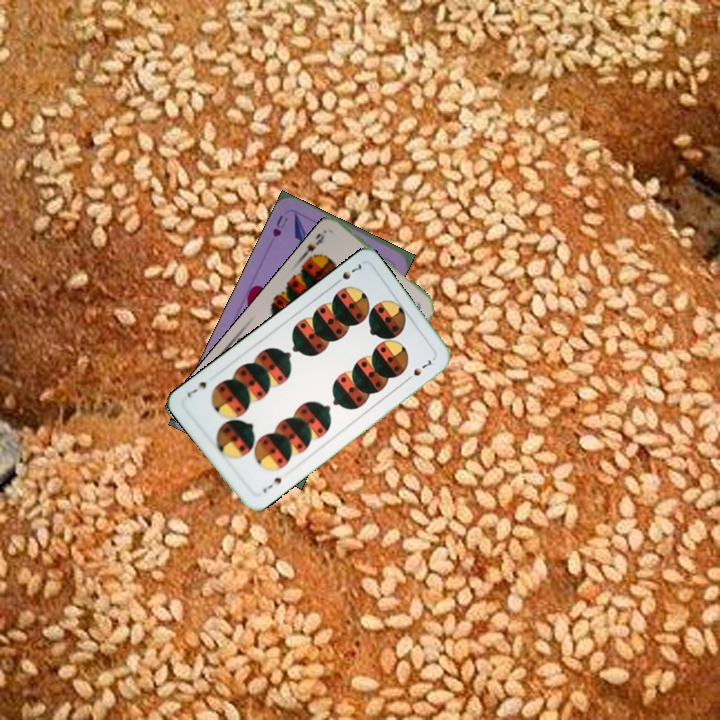HU: (268, 211, 290, 239)
S7: (330, 259, 364, 288), (259, 473, 284, 496)
S9: (297, 227, 328, 264)
